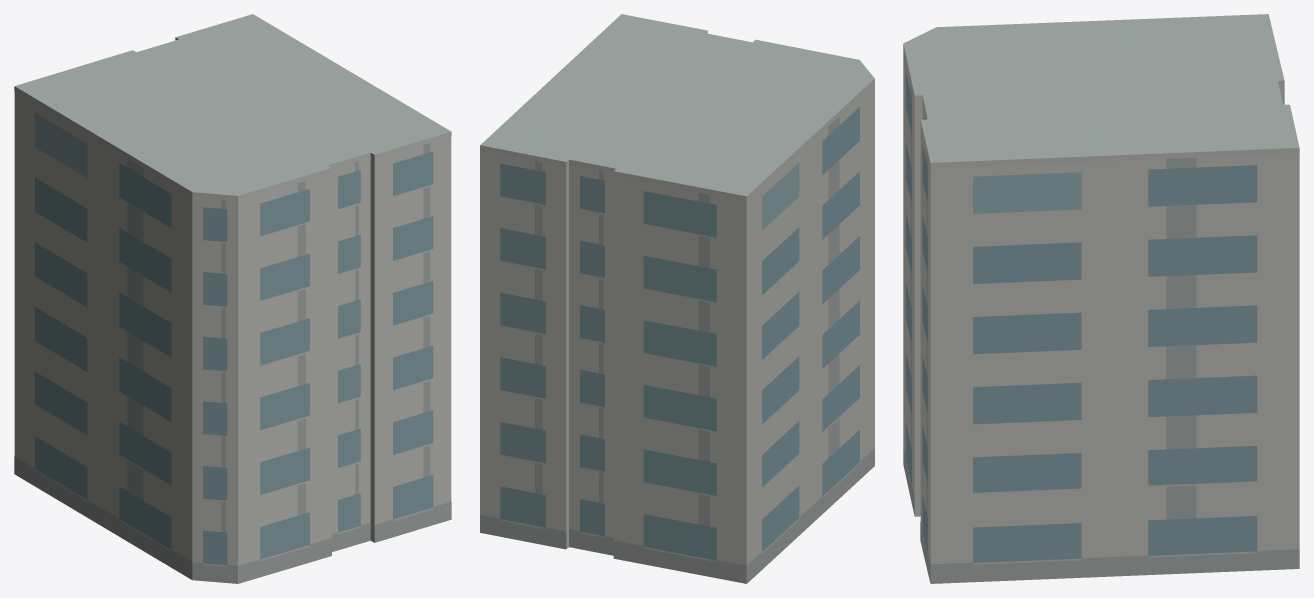
File: survey-upis-32996153.glb
3 views of the same model, side by side, from view 1: azimuth 30°, elevation 25°; view 2: azimuth 150°, elevation 25°; view 3: azimuth 270°, elevation 25° (orthographic). The views are drawn at different scales.
Parts seen in each view (by area): view 1: survey-upis-32996153.tmp; view 2: survey-upis-32996153.tmp; view 3: survey-upis-32996153.tmp.
Boxes of the visible parts, x1=… form: survey-upis-32996153.tmp: x1=14, y1=14, x2=451, y2=583; survey-upis-32996153.tmp: x1=480, y1=14, x2=874, y2=583; survey-upis-32996153.tmp: x1=903, y1=14, x2=1299, y2=583.
Bounding box in the file's own units: 13.89 × 18.3 × 15.62.
